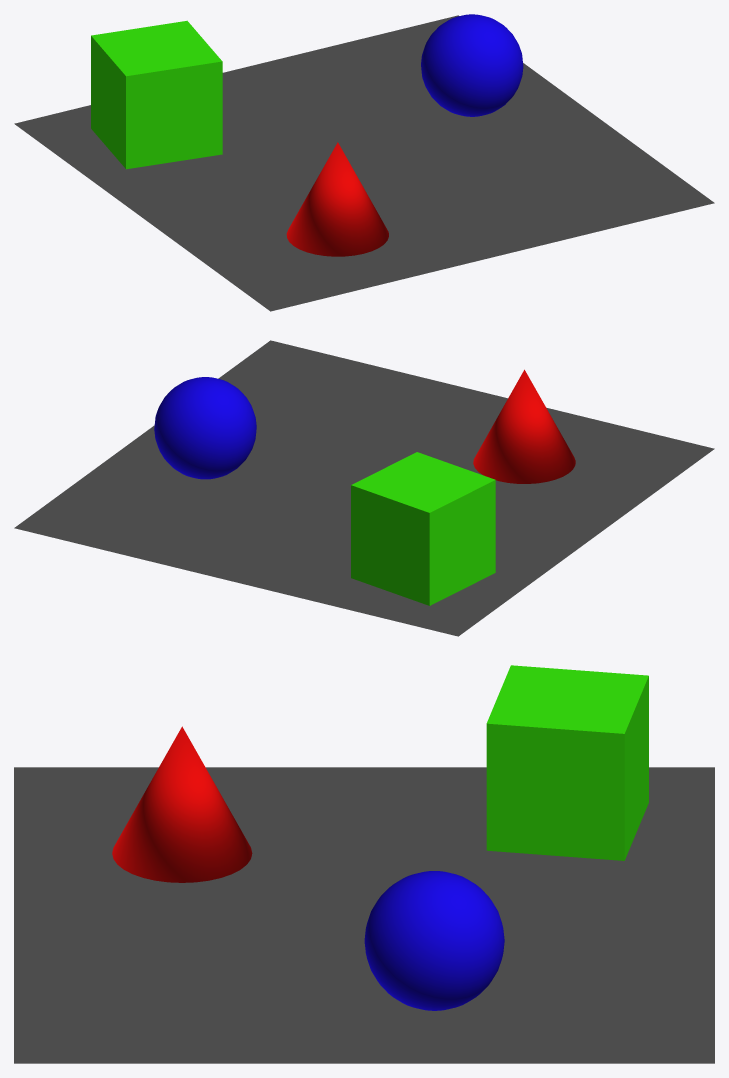
The picture shows the model from 3 angles, top to bottom: view 1: azimuth 30°, elevation 25°; view 2: azimuth 150°, elevation 25°; view 3: azimuth 270°, elevation 25°; orthographic projection. The views are drawn at different scales.
Visible parts, largest first — view 1: Plane, Cube, Sphere, Cone; view 2: Plane, Cube, Sphere, Cone; view 3: Plane, Cube, Sphere, Cone.
Boxes of the visible parts, x1,y1,x2,y2 form: Plane: [14, 15, 714, 311]; Cube: [91, 20, 222, 169]; Sphere: [421, 14, 523, 116]; Cone: [286, 142, 388, 256]; Plane: [14, 340, 714, 636]; Cube: [351, 452, 495, 605]; Sphere: [154, 377, 256, 479]; Cone: [473, 369, 575, 483]; Plane: [14, 767, 714, 1063]; Cube: [486, 665, 648, 860]; Sphere: [364, 871, 504, 1010]; Cone: [112, 726, 252, 882].
Size of the model in its own units: 1000 by 200 by 1000.
